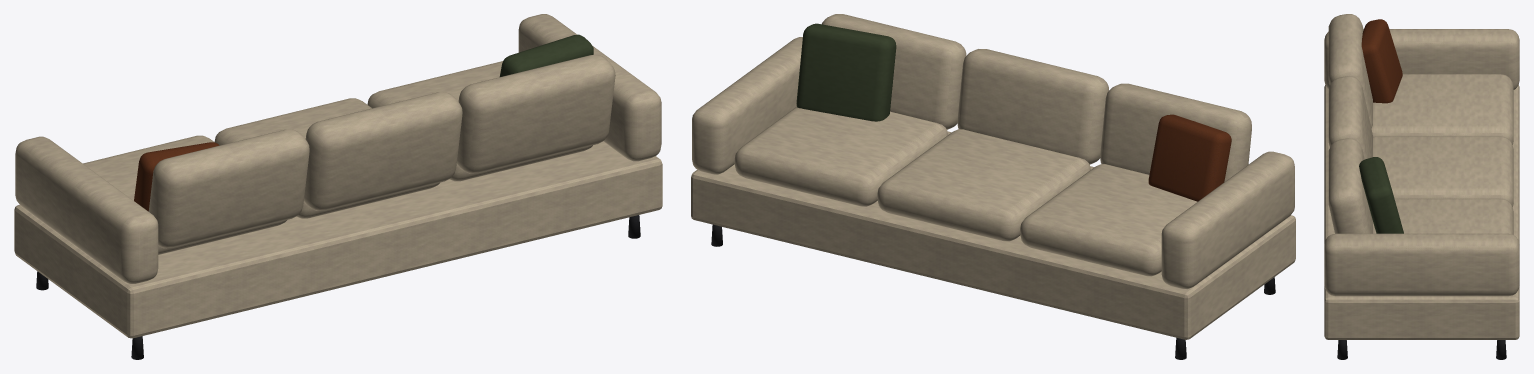
Rendered from living_sofa.glb.
The picture shows the model from 3 angles, left to right: view 1: azimuth 30°, elevation 25°; view 2: azimuth 150°, elevation 25°; view 3: azimuth 270°, elevation 25°; orthographic projection. The views are drawn at different scales.
Parts seen in each view (by area): view 1: living_sofa; view 2: living_sofa; view 3: living_sofa.
Boxes of the visible parts, x1=… form: living_sofa: x1=14, y1=14, x2=662, y2=359; living_sofa: x1=691, y1=14, x2=1295, y2=359; living_sofa: x1=1324, y1=14, x2=1519, y2=359.
Size of the model in its own units: 2.55 by 0.8599 by 0.96.
4 materials, 4 textured.
